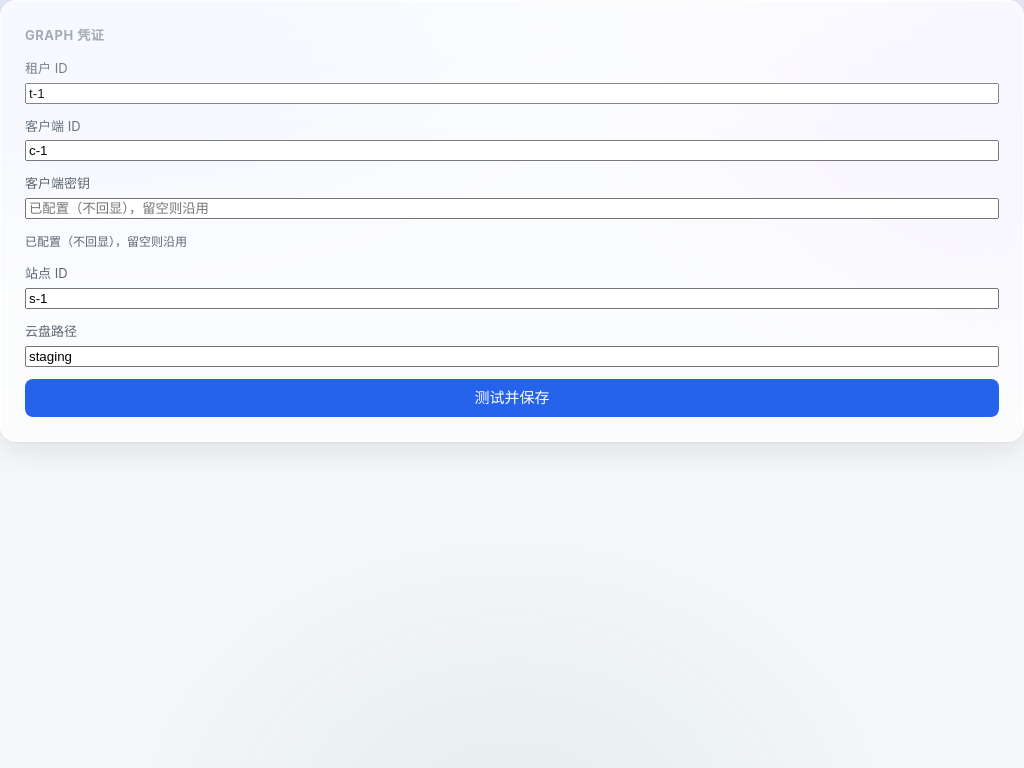
Scenario: GraphCredentialsPanel（四期的凭证用例，六期随面板拆分搬到这里） › 自检失败时逐步展示诊断，未执行的步骤显示为未执行
Check: the field labelled "租户 ID" is shown, box [25,83,999,104]
Click the button "测试并保存" at (512, 398), box [25,379,999,417]
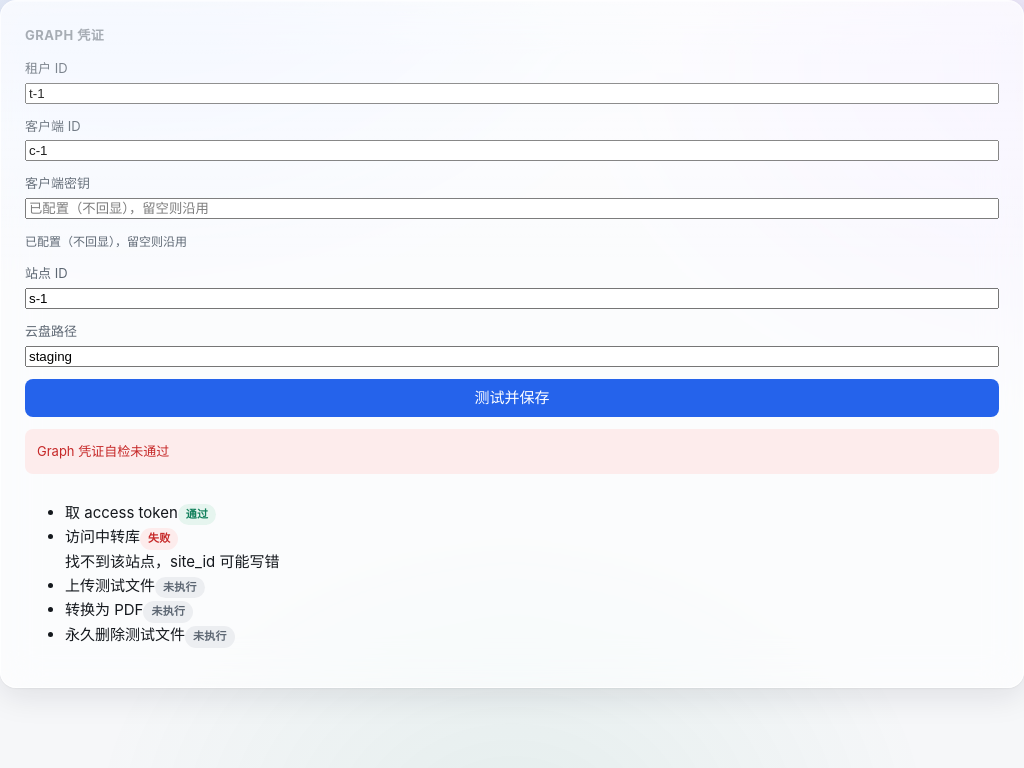
Check: the text "找不到该站点，site_id 可能写错" is shown, box [65,552,280,571]
Check: the text "未执行" is shown 3 times, box [155,577,205,598]; [144,601,193,623]; [185,626,235,648]
